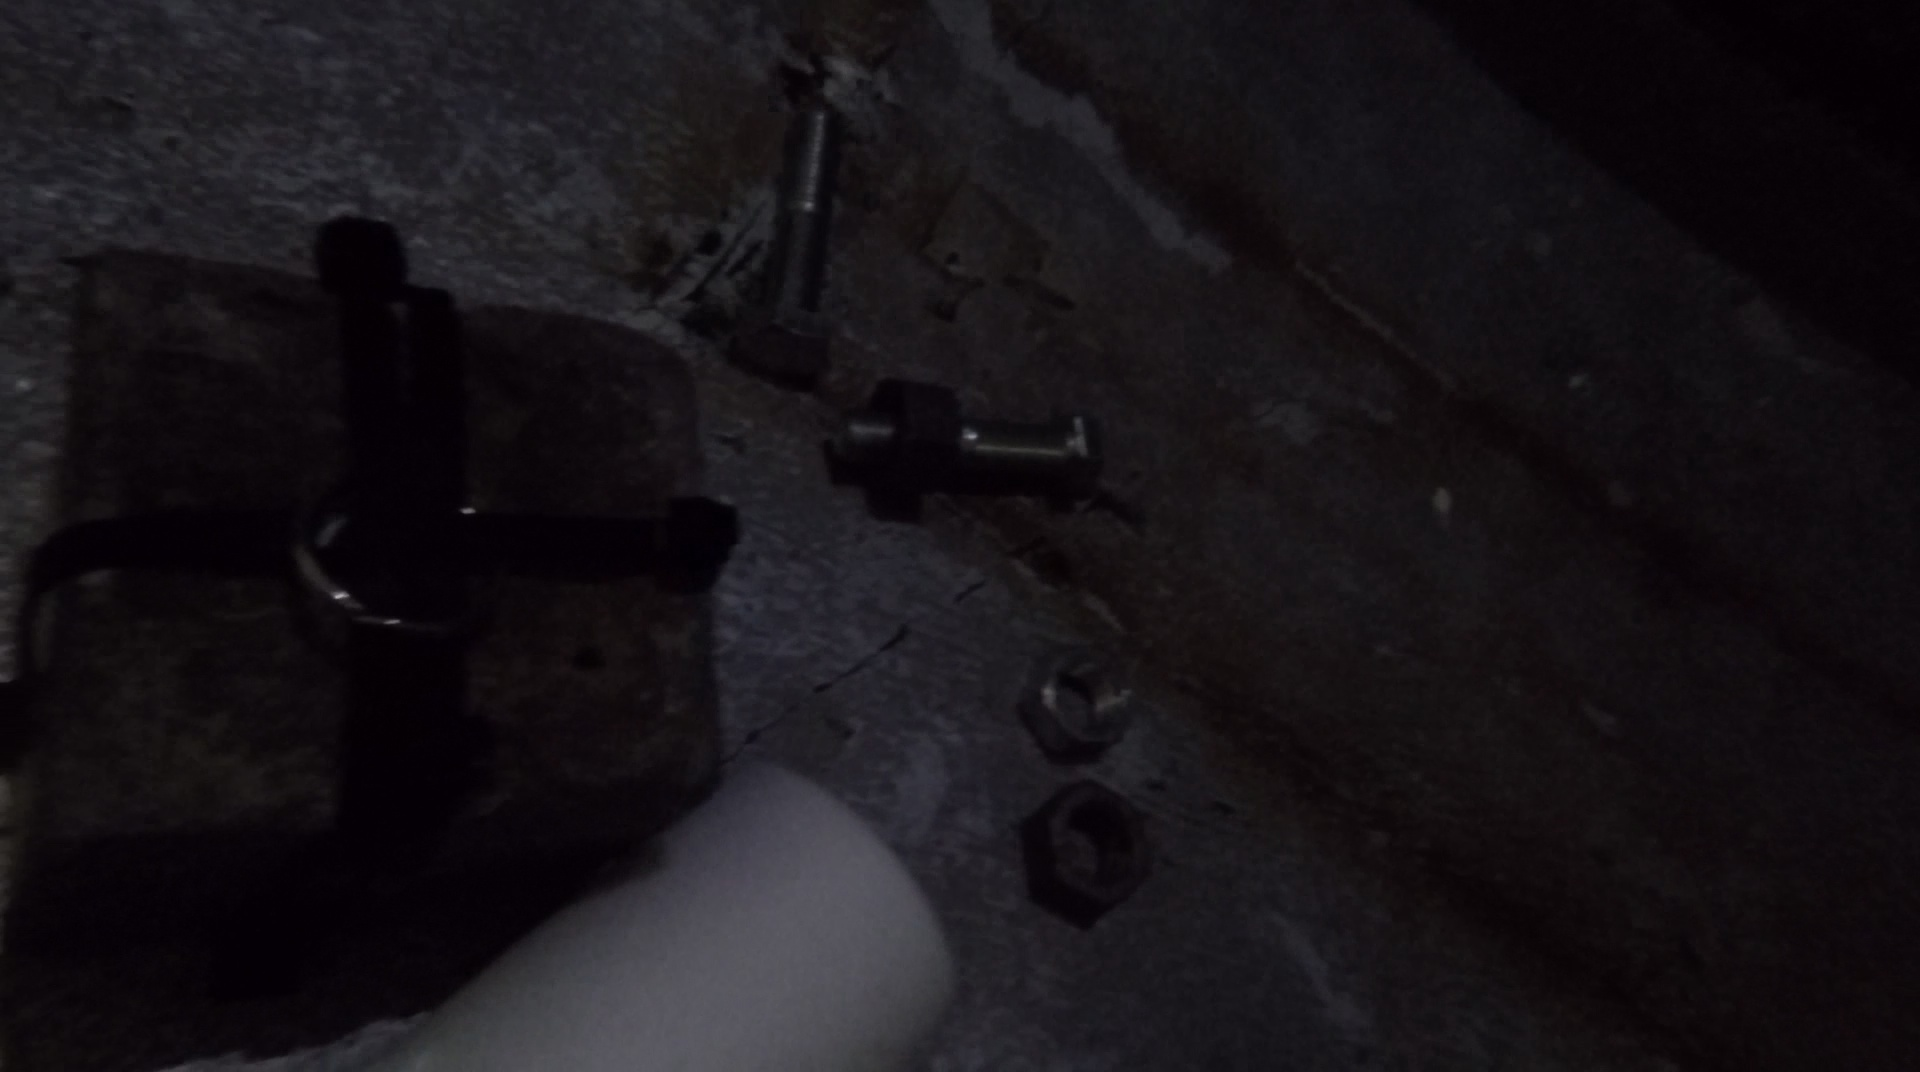bolt: (732, 104, 847, 386), (831, 401, 1102, 501)
led_block: (1, 218, 738, 1003)
nut: (1021, 775, 1164, 930), (1014, 647, 1135, 763), (876, 374, 963, 512)
pipe: (360, 763, 960, 1072)
